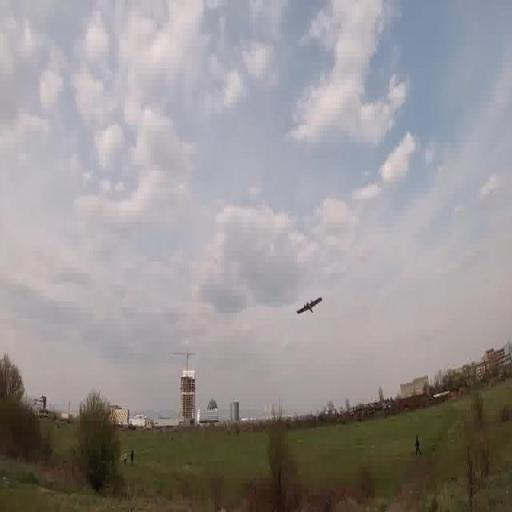uav: (296, 284, 326, 324)
